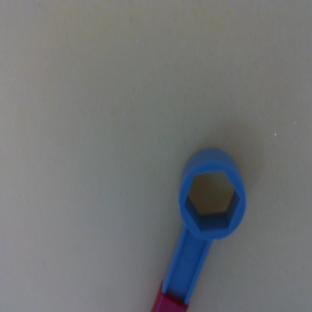part_3_good: (133, 140, 262, 312)
